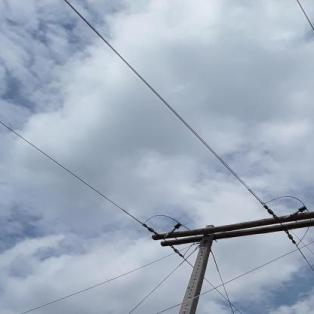Poste: (75, 221, 225, 314), (291, 197, 314, 314)
